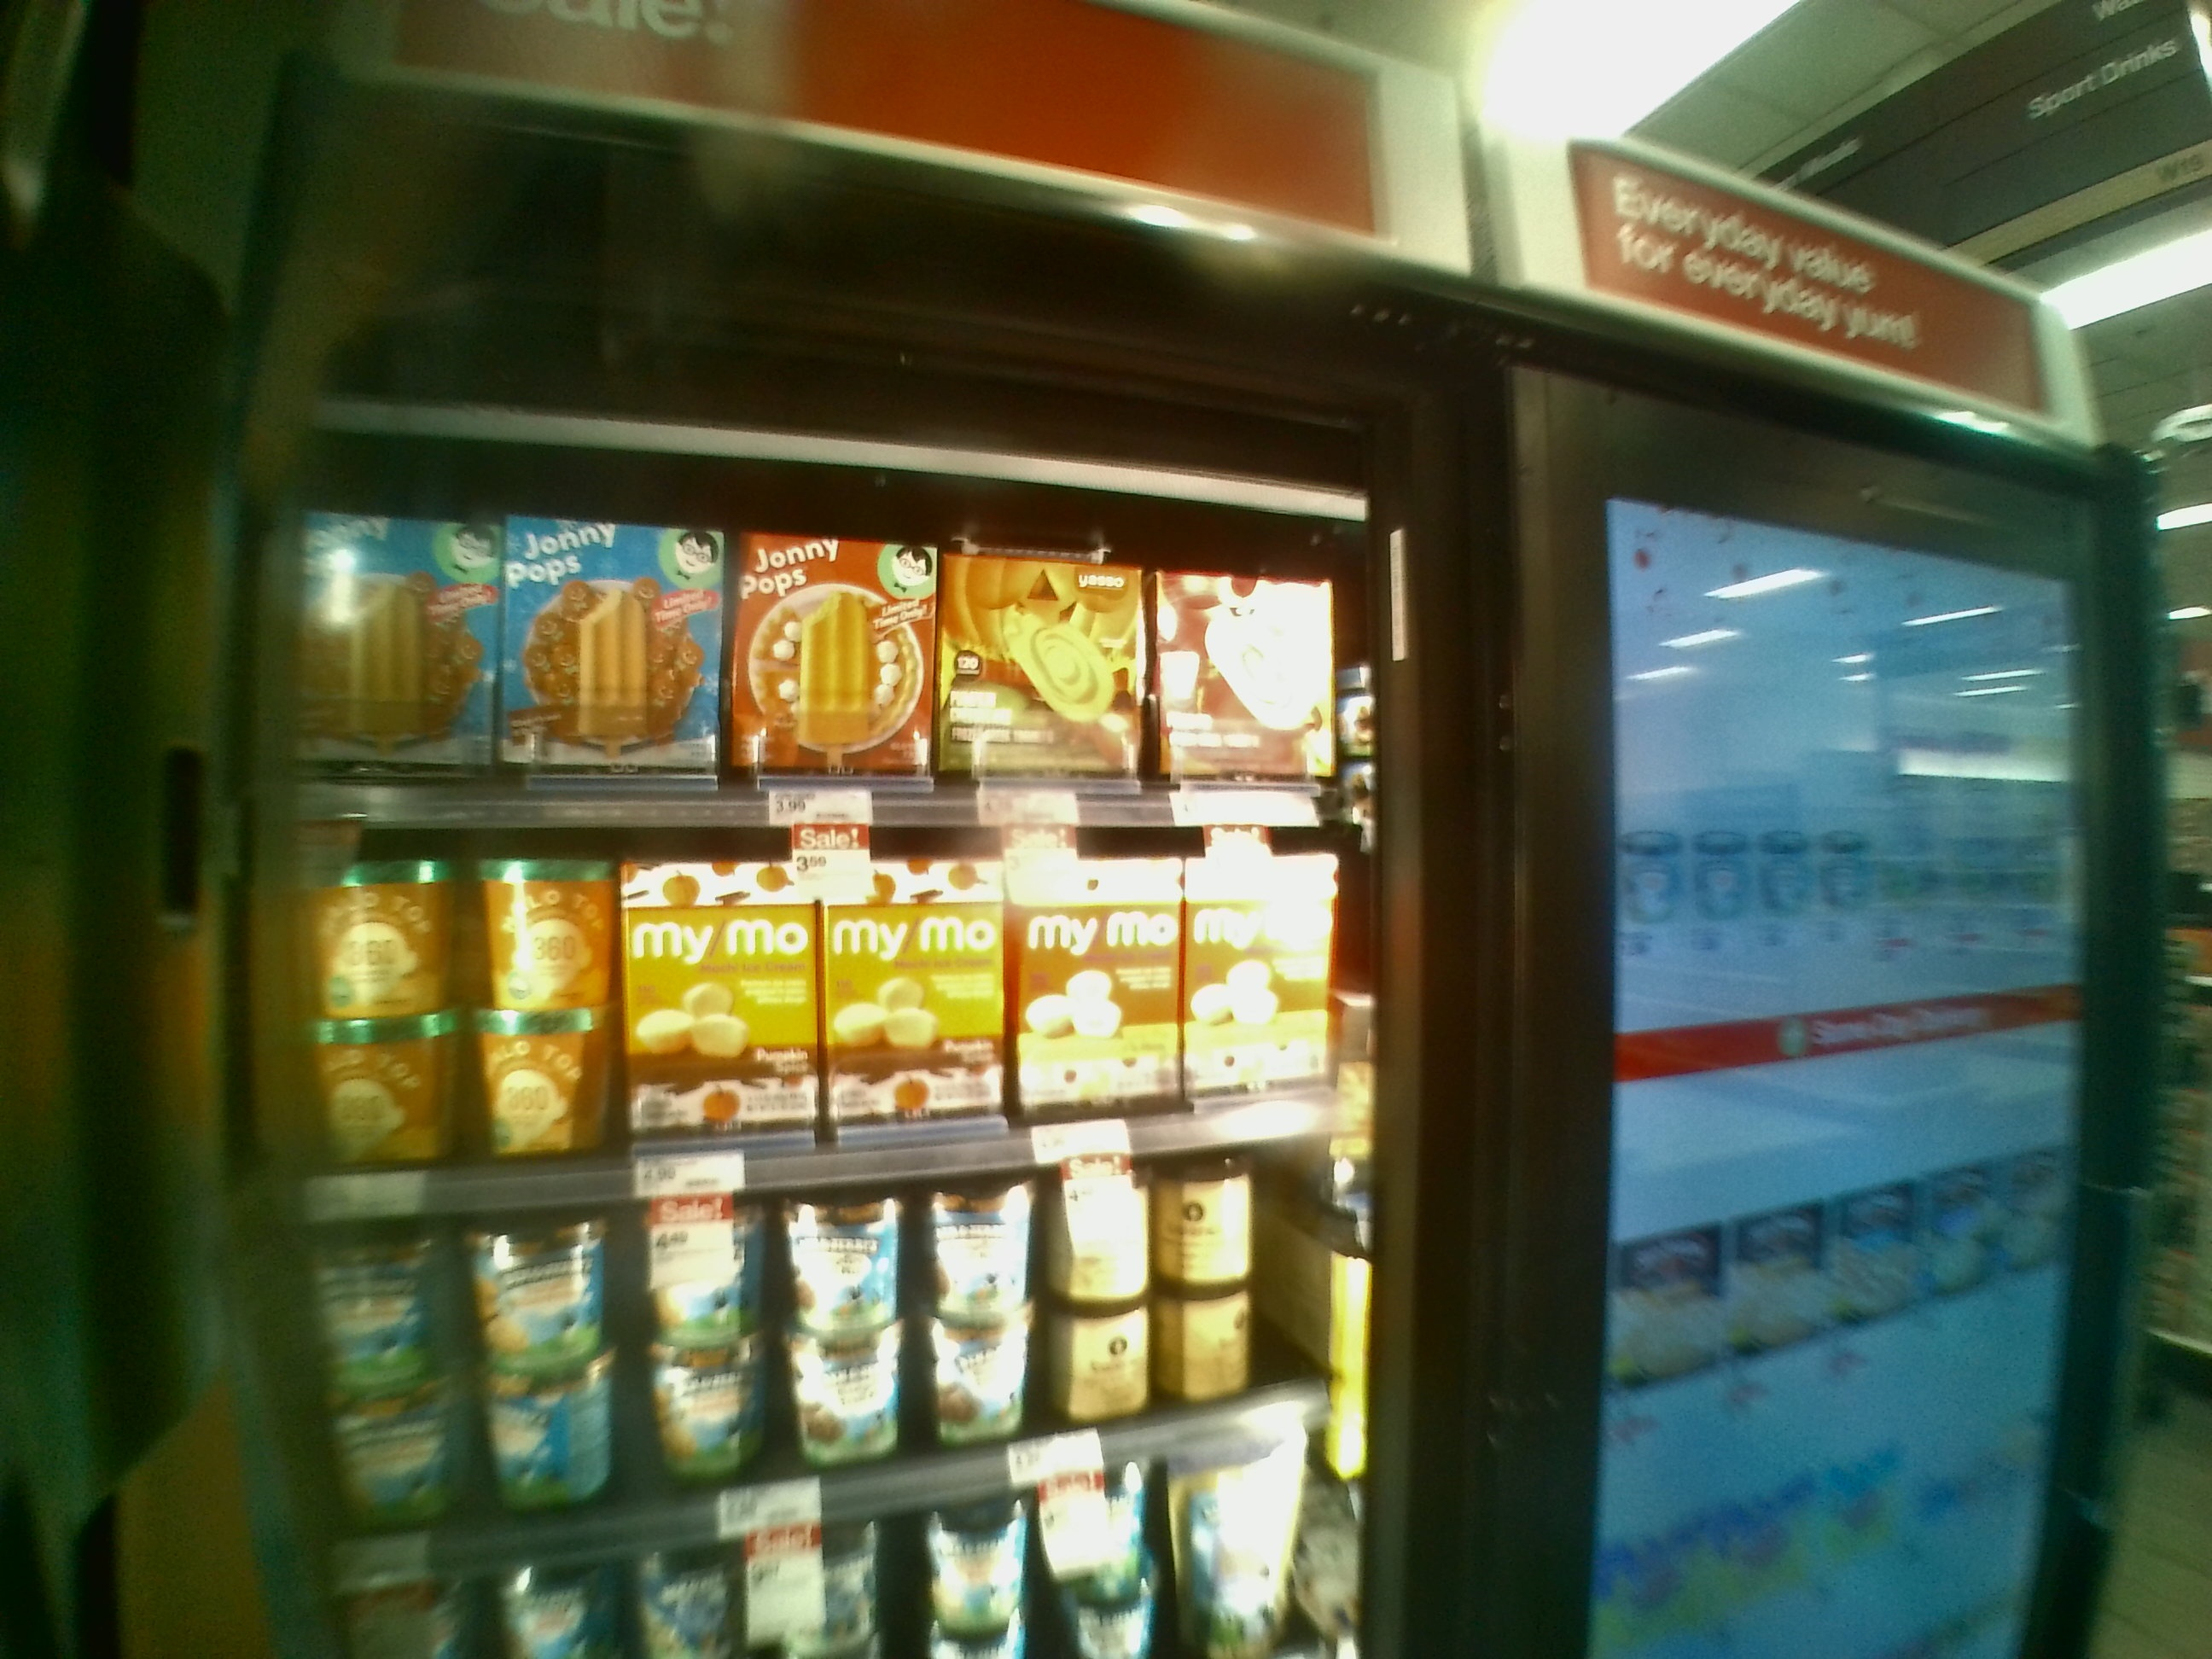shelf: (256, 786, 1369, 1150), (270, 444, 1362, 803), (296, 1201, 1348, 1521)
